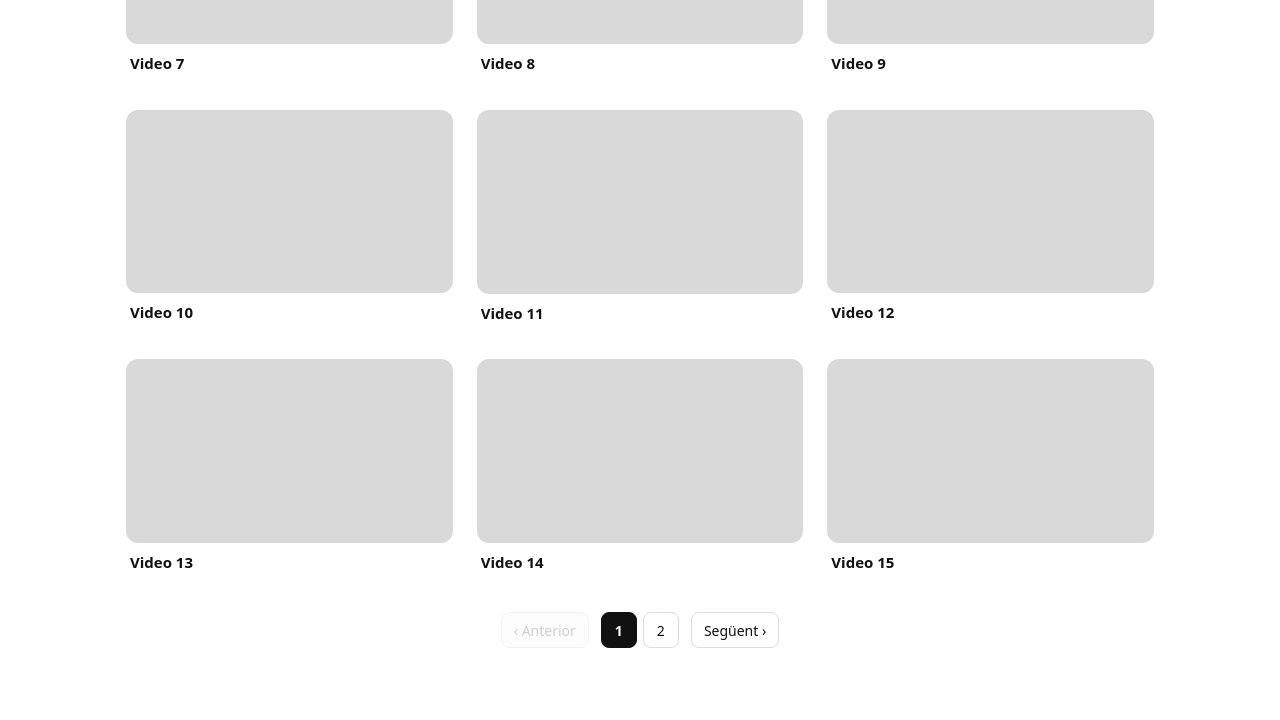
it: VideoGrid component › paginates videos correctly and navigates between pages
(page scrolled)
Expected: the heading "Video 15" is shown, [831, 552, 894, 572]
Note: Click next page
Click the button with aria-label "Pàgina següent": (735, 630) [691, 612, 779, 648]
(page scrolled)
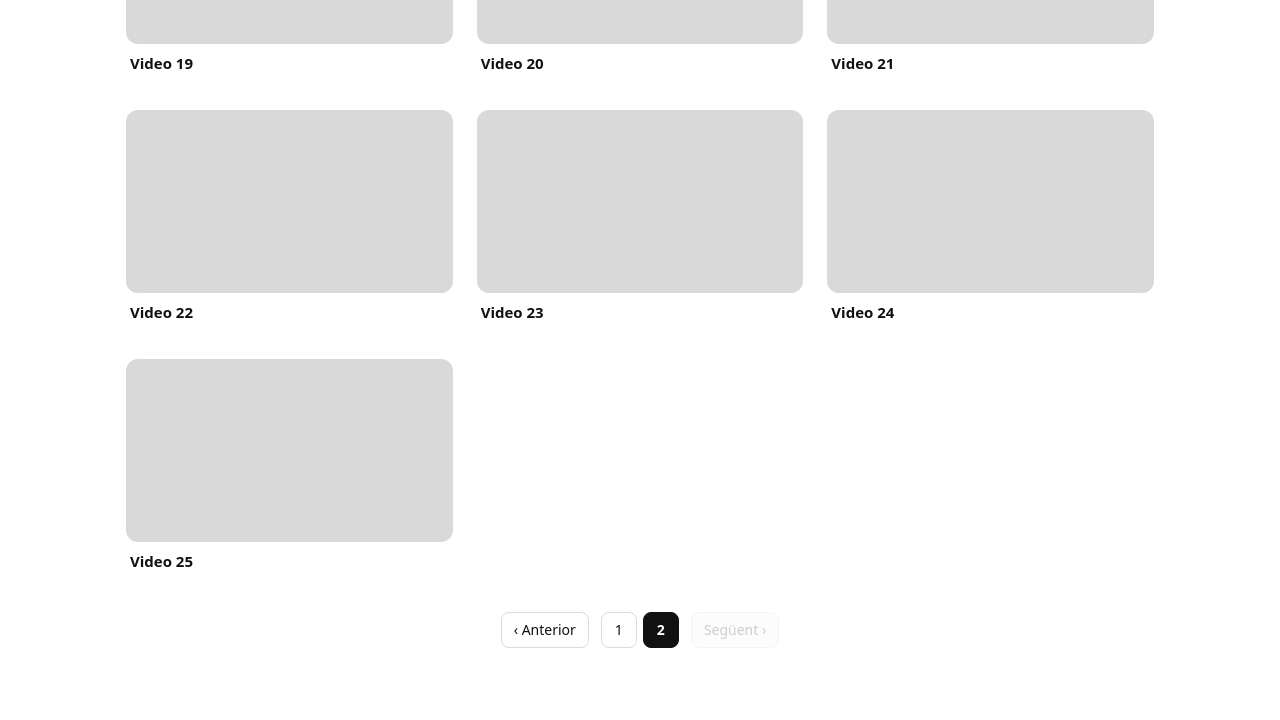
Expected: the heading "Video 25" is shown, [130, 552, 193, 572]
